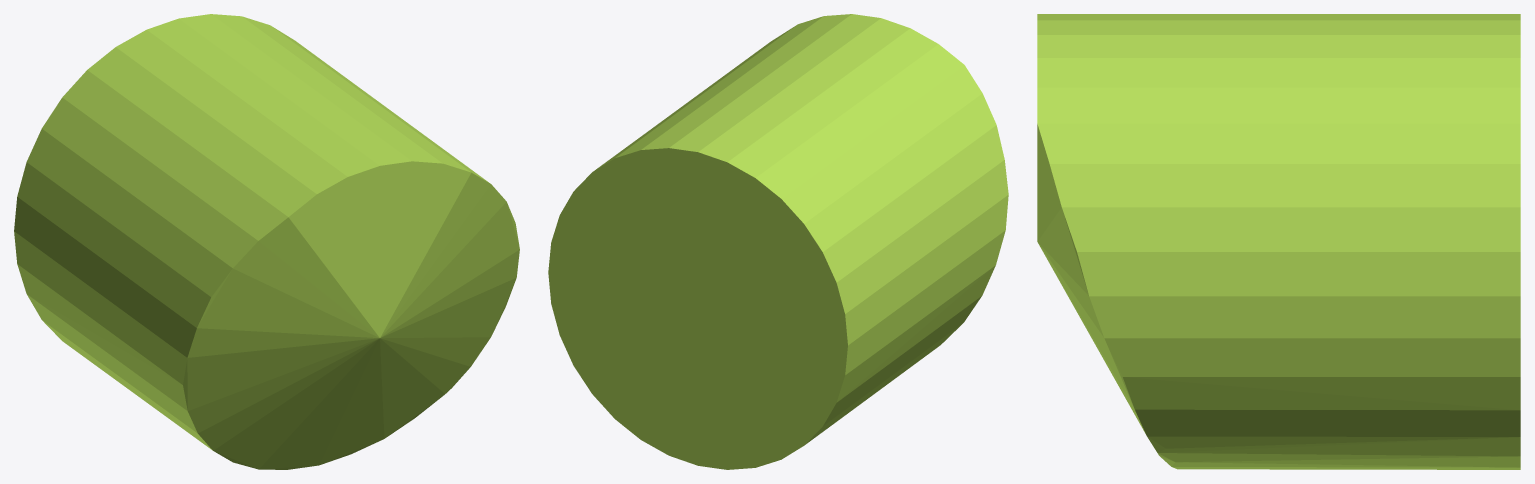
Rendered from ur10e_link_coll_4.dae.
3 renders of one model, left to right at view 1: azimuth 30°, elevation 25°; view 2: azimuth 150°, elevation 25°; view 3: azimuth 270°, elevation 25°, orthographic. The views are drawn at different scales.
Visible parts, largest first — view 1: node; view 2: node; view 3: node.
Part boxes in pixels (bbox=[...]): node: bbox=[14, 14, 519, 469]; node: bbox=[548, 14, 1008, 469]; node: bbox=[1037, 14, 1520, 469].
Bounding box in the file's own units: 0.15 × 0.15 × 0.1587.
